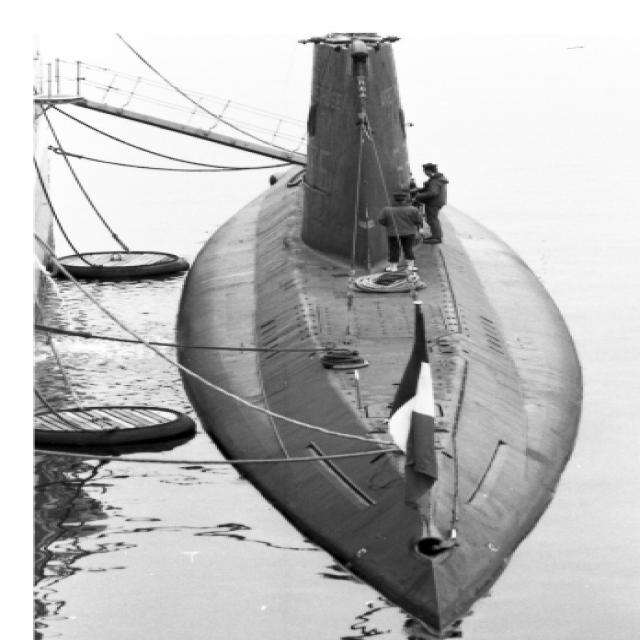submarine: (170, 19, 588, 640)
